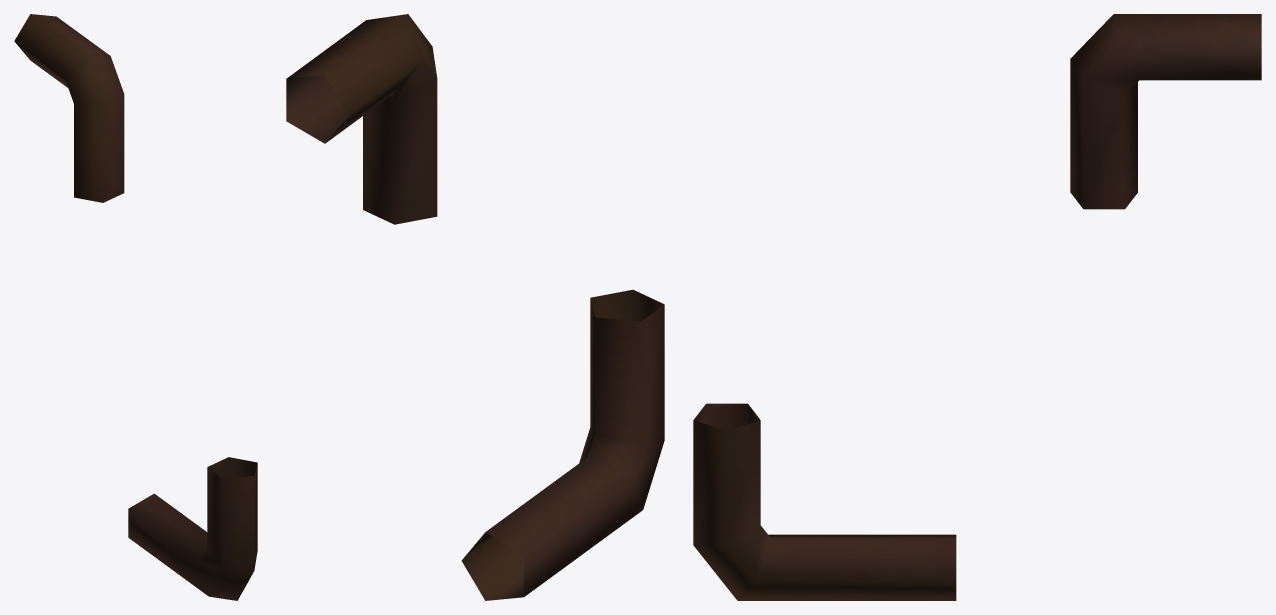
File: water_tower_01_97e42dac__ZombiesII_depot_diffuse_03_573b45f4_c1f257.obj
The picture shows the model from 3 angles, left to right: view 1: azimuth 30°, elevation 25°; view 2: azimuth 150°, elevation 25°; view 3: azimuth 270°, elevation 25°; orthographic projection. The views are drawn at different scales.
Size of the model in its own units: 0.5721 by 5.43 by 4.8.
Materials: 1 (1 with a texture image).
